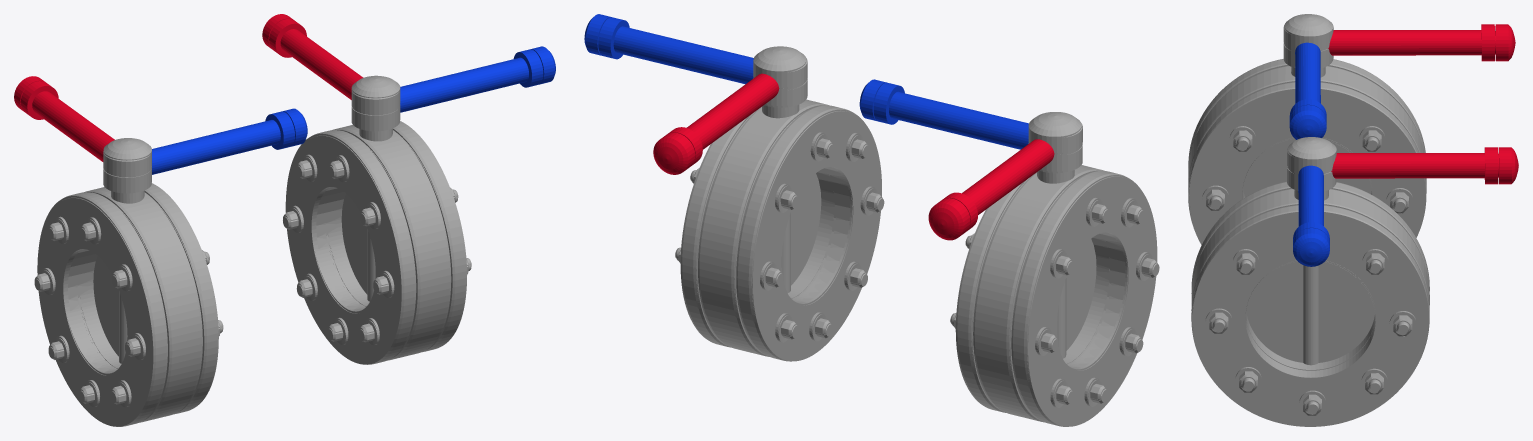
File: new kran.fbx
3 views of the same model, side by side, from view 1: azimuth 30°, elevation 25°; view 2: azimuth 150°, elevation 25°; view 3: azimuth 270°, elevation 25° (orthographic). The views are drawn at different scales.
Parts seen in each view (by area): view 1: Фальга.016, Фальга.019, Фальга.015, Фальга.020; view 2: Фальга.020, Фальга.015, Фальга.019, Фальга.016; view 3: Фальга.015, Фальга.020, Фальга.016, Фальга.019.
Part boxes in pixels (box(x1,y1,x2,y2)): Фальга.016: box(283, 46, 555, 364); Фальга.019: box(34, 108, 307, 426); Фальга.015: box(262, 14, 471, 335); Фальга.020: box(14, 76, 223, 397); Фальга.020: box(928, 112, 1157, 403); Фальга.015: box(653, 46, 882, 338); Фальга.019: box(859, 79, 1159, 426); Фальга.016: box(584, 14, 884, 361); Фальга.015: box(1192, 137, 1518, 425); Фальга.020: box(1189, 14, 1515, 243); Фальга.016: box(1191, 140, 1413, 426); Фальга.019: box(1188, 25, 1410, 244).
Size of the model in its own units: 21424 by 11688 by 12906.
